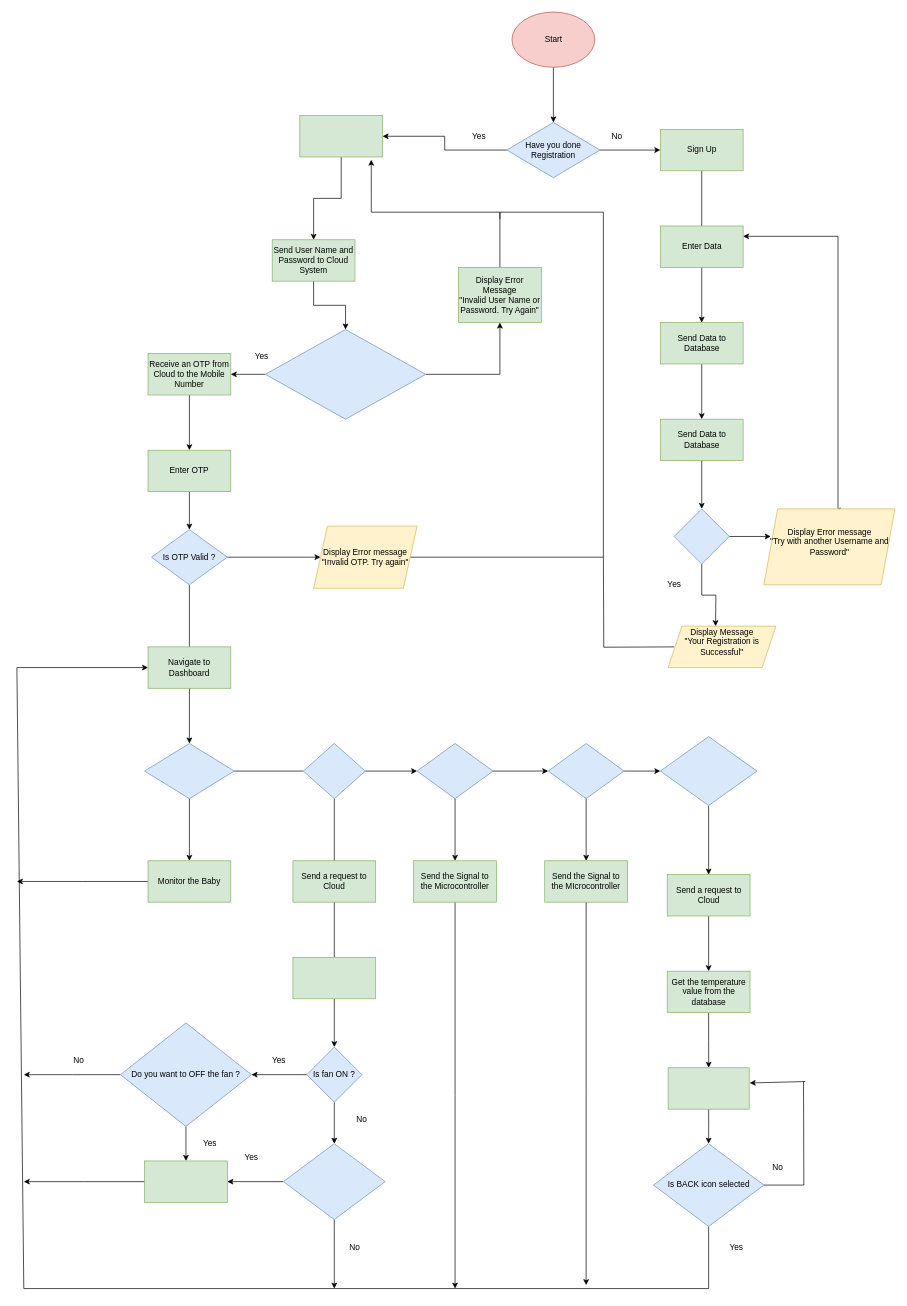
This 907x1306 diagram has some shape labels left out. Each missing label, with the centre of its shape:
"Display the temperature" goes at pixel 708 1088.
"Do you want to ON the fan" goes at pixel 334 1181.
"Get the Current Status" goes at pixel 334 978.
"Is Camera Icon selected?" goes at pixel 189 771.
"Is Fan Icon selected" goes at pixel 334 771.
"Is Music icon selected ?" goes at pixel 586 771.
"Is Swing icon selected?" goes at pixel 454 771.
"Is Temperature icon selected?" goes at pixel 708 771.
"Is User Name and Password VALID ?" goes at pixel 345 374.
"Is Valid ?" goes at pixel 701 536.
"Login" goes at pixel 341 136.
"Update the Current Status of the fan in Database" goes at pixel 185 1181.
